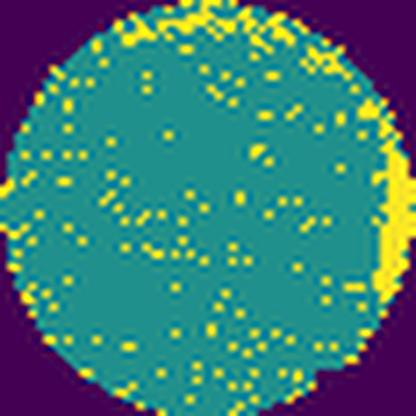Edge-Loc: (368, 109, 416, 316)
